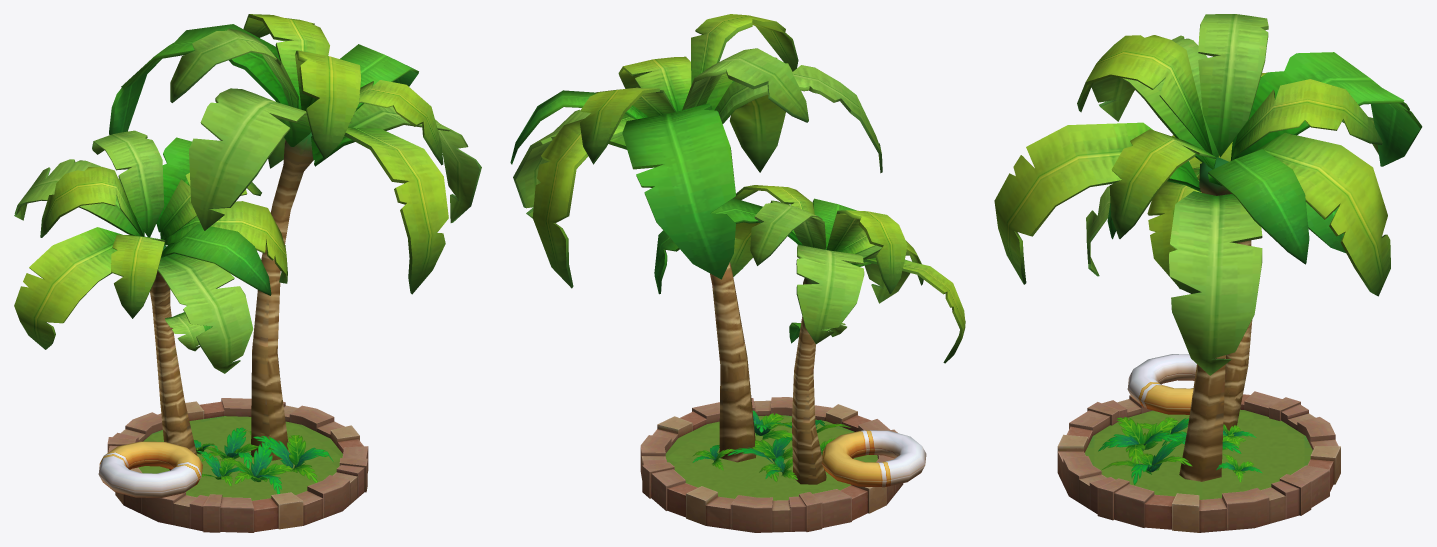
Rendered from my_ariussummer_01_garden_01.glb.
3 renders of one model, left to right at view 1: azimuth 30°, elevation 25°; view 2: azimuth 150°, elevation 25°; view 3: azimuth 270°, elevation 25°, orthographic. The views are drawn at different scales.
Visible parts, largest first — view 1: my_ariussummer_01_garden_01; view 2: my_ariussummer_01_garden_01; view 3: my_ariussummer_01_garden_01.
Part boxes in pixels (x1,y1,x2,y2): my_ariussummer_01_garden_01: (14,14,481,532); my_ariussummer_01_garden_01: (510,14,965,532); my_ariussummer_01_garden_01: (994,14,1422,532).
Size of the model in its own units: 0.0247 by 0.023 by 0.0194.
Materials: 2 (2 with a texture image).
